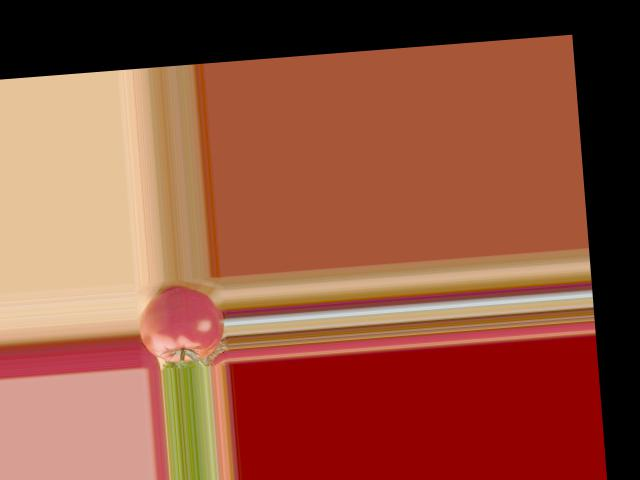tomato: (136, 285, 226, 364)
